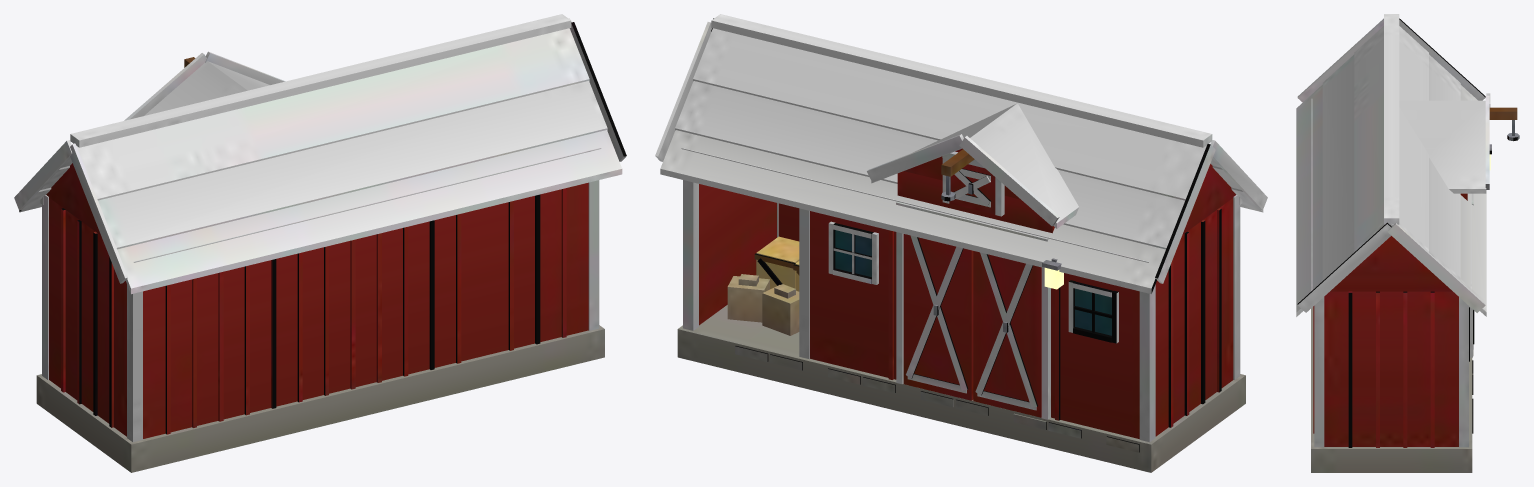
The model's file is storehouse_4.glb.
The picture shows the model from 3 angles, left to right: view 1: azimuth 30°, elevation 25°; view 2: azimuth 150°, elevation 25°; view 3: azimuth 270°, elevation 25°; orthographic projection. The views are drawn at different scales.
Parts seen in each view (by area): view 1: shed4_red; view 2: shed4_red, door_r, door_l; view 3: shed4_red.
Part boxes in pixels (left/top/right/bottom): shed4_red: left=14, top=14, right=626, bottom=472; shed4_red: left=655, top=14, right=1267, bottom=472; door_r: left=903, top=234, right=973, bottom=400; door_l: left=973, top=251, right=1041, bottom=417; shed4_red: left=1296, top=14, right=1519, bottom=472.
Size of the model in its own units: 6.5 by 3.74 by 2.93.
6 materials, 6 textured.
